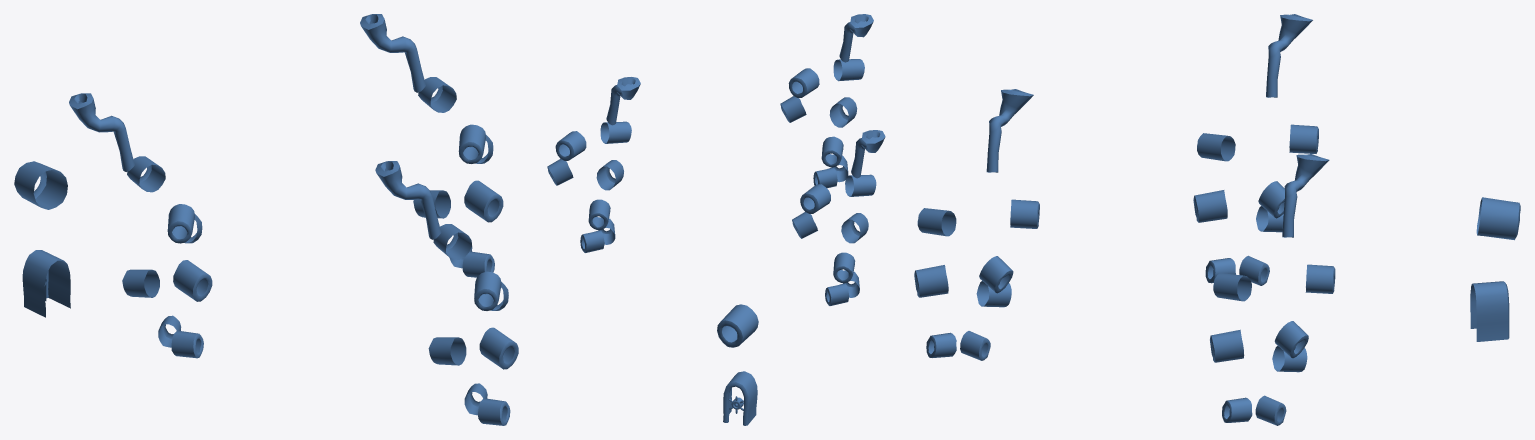
3 views of the same model, side by side, from view 1: azimuth 30°, elevation 25°; view 2: azimuth 150°, elevation 25°; view 3: azimuth 270°, elevation 25° (orthographic). The views are drawn at different scales.
Visible parts, largest first — view 1: Object_15; view 2: Object_15; view 3: Object_15.
Part boxes in pixels (box(x1,y1,x2,y2)): Object_15: box(14, 14, 518, 425); Object_15: box(547, 14, 885, 425); Object_15: box(914, 14, 1520, 425).
Size of the model in its own units: 107 by 72.82 by 139.
